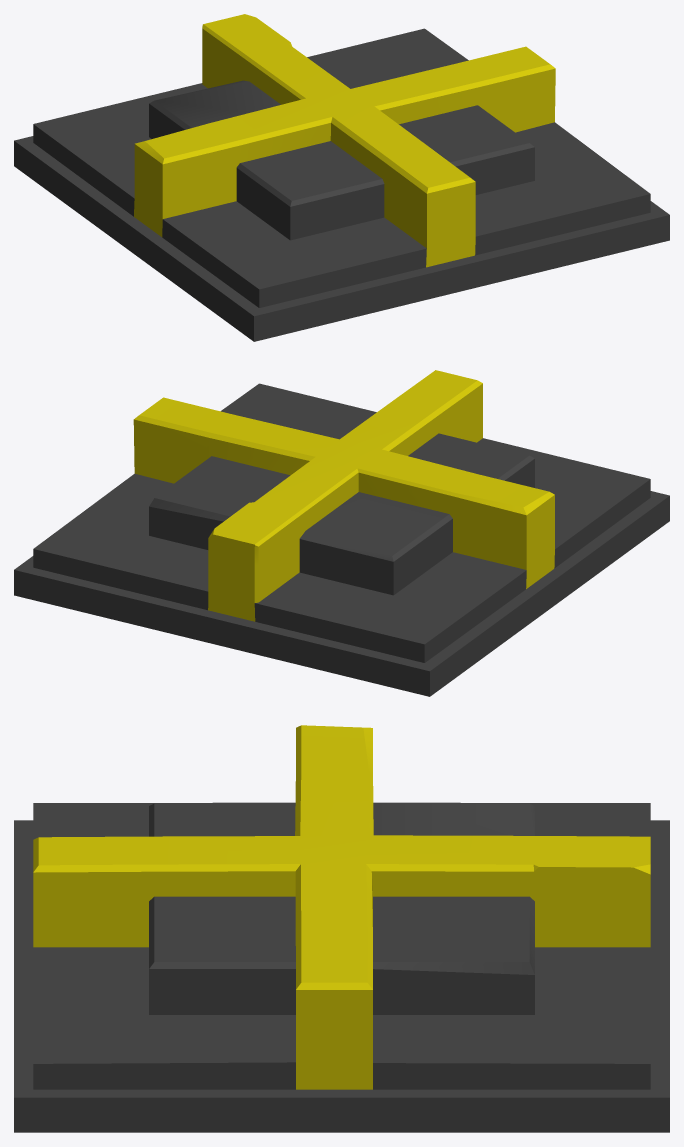
The model's file is socle ornate.fbx.
3 views of the same model, one above another, from view 1: azimuth 30°, elevation 25°; view 2: azimuth 150°, elevation 25°; view 3: azimuth 270°, elevation 25° (orthographic). The views are drawn at different scales.
Parts seen in each view (by area): view 1: pilier_base_alone; view 2: pilier_base_alone; view 3: pilier_base_alone.
Part boxes in pixels (x1,y1,x2,y2): pilier_base_alone: (14, 14, 669, 341); pilier_base_alone: (14, 370, 669, 696); pilier_base_alone: (14, 725, 669, 1132).
Bounding box in the file's own units: 37.01 × 8.82 × 37.01.
